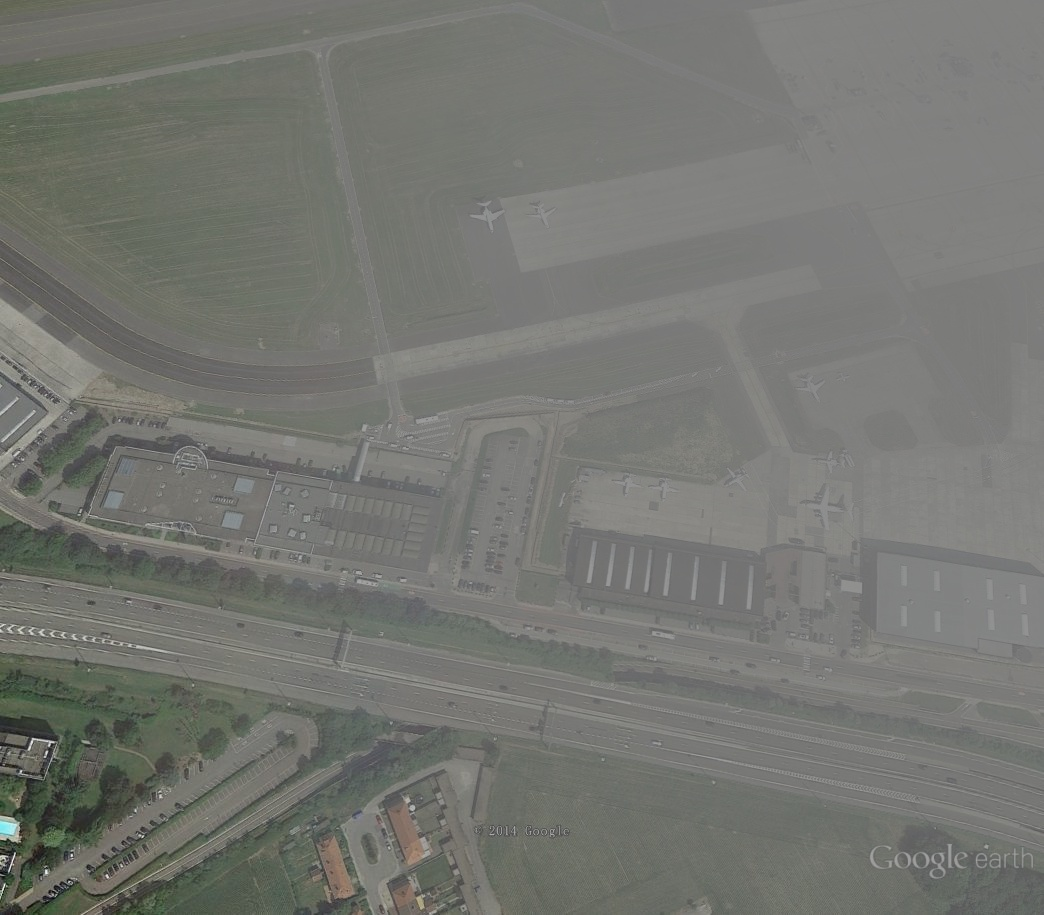aircraft: (801, 483, 857, 534), (467, 197, 509, 236), (523, 201, 559, 232), (811, 449, 849, 478), (794, 374, 828, 405), (611, 470, 645, 500), (647, 476, 681, 505), (724, 464, 751, 493), (837, 370, 851, 386)
